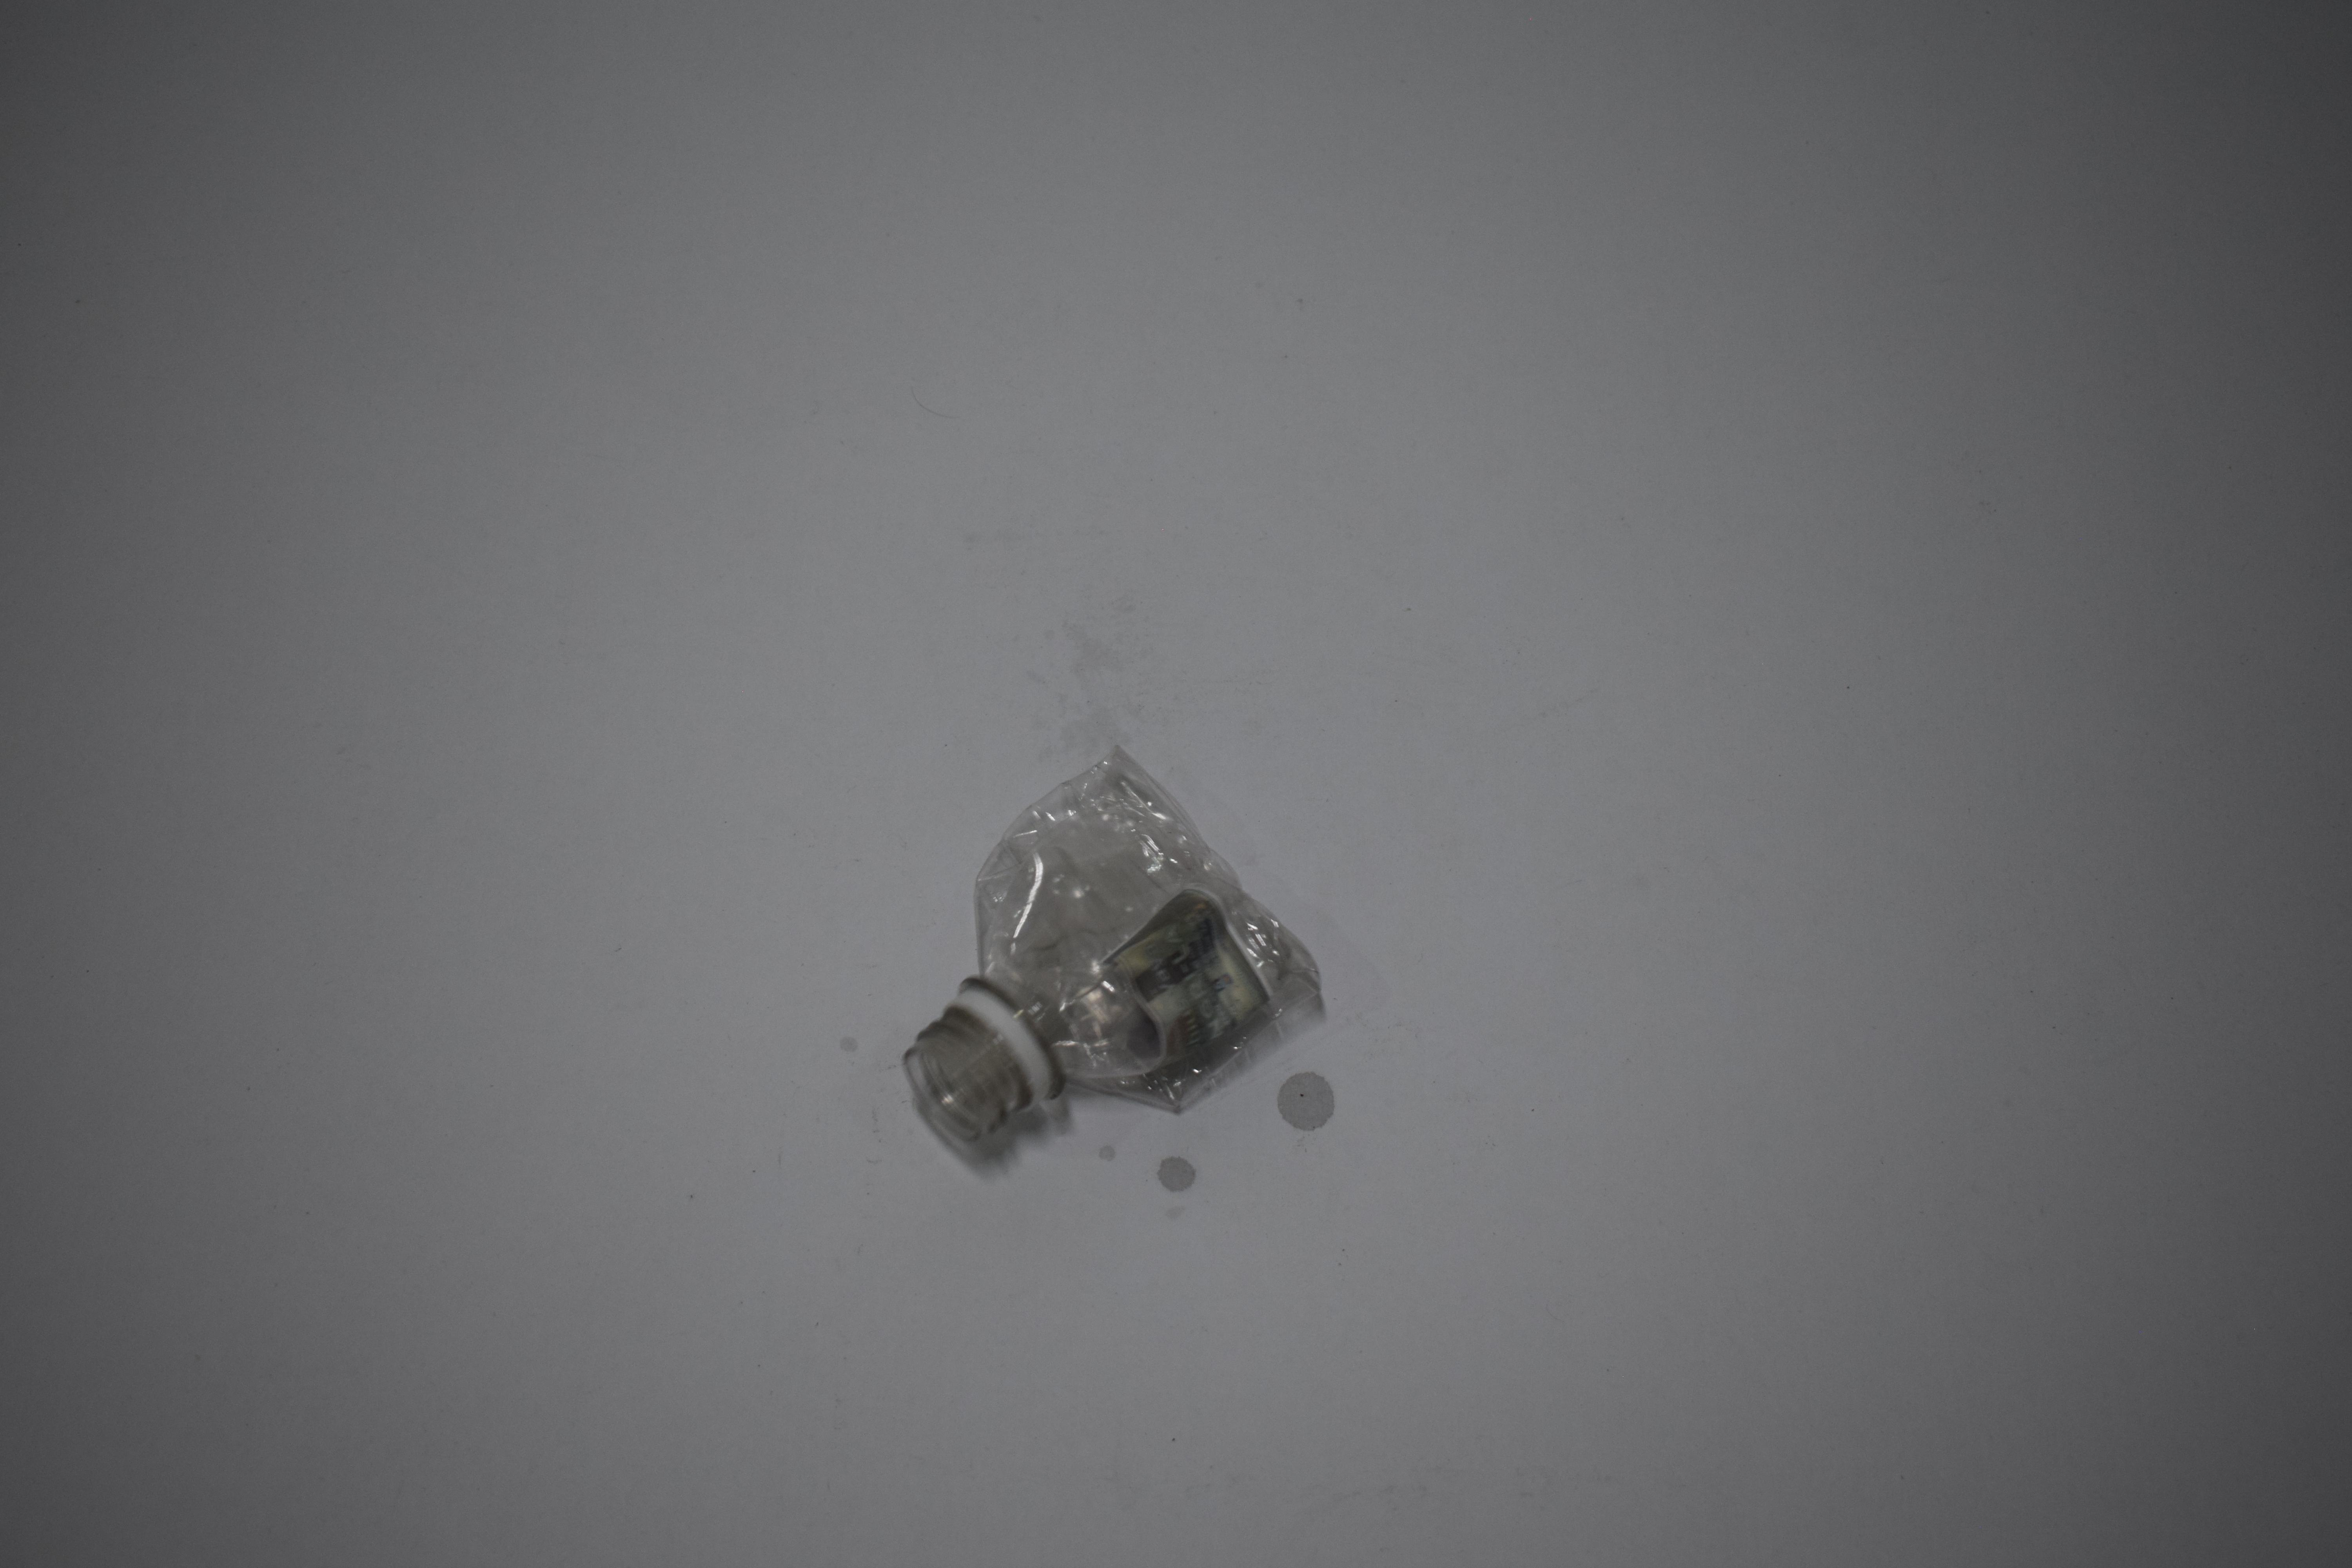bottle: (889, 746, 1332, 1169)
